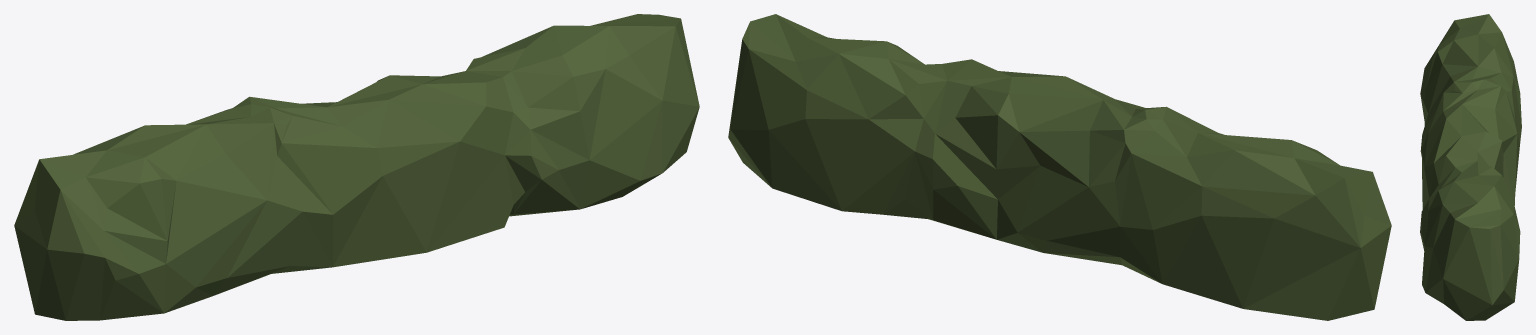
Rendered from SM_Env_Hedge_03.fbx.
The picture shows the model from 3 angles, left to right: view 1: azimuth 30°, elevation 25°; view 2: azimuth 150°, elevation 25°; view 3: azimuth 270°, elevation 25°; orthographic projection. The views are drawn at different scales.
Parts seen in each view (by area): view 1: SM_Env_Hedge_03; view 2: SM_Env_Hedge_03; view 3: SM_Env_Hedge_03.
Part boxes in pixels (left/top/right/bottom): SM_Env_Hedge_03: left=14, top=14, right=699, bottom=320; SM_Env_Hedge_03: left=728, top=14, right=1391, bottom=320; SM_Env_Hedge_03: left=1420, top=14, right=1521, bottom=320.
Bounding box in the file's own units: 536 × 117 × 104.
